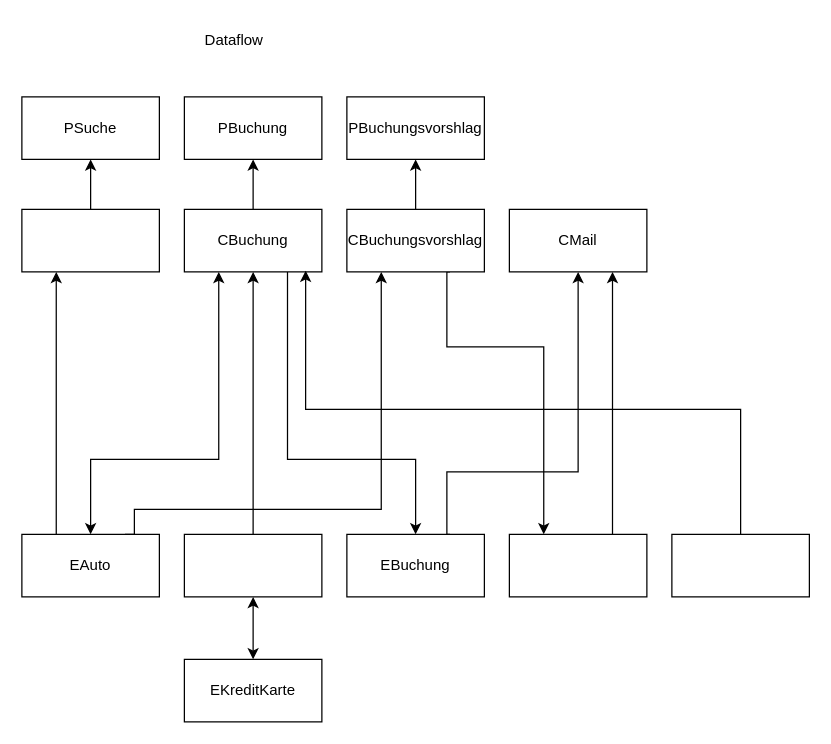
Some shapes in this 831 by 744 pixel diagram are drawn without their labels. The shapes that lost their labels are listed below. From the top down, each one's centre as x and y in pixels, then its label:
At [90,240]: "CSuche".
At [252,565]: "EKunde".
At [577,565]: "EVorshlag".
At [740,565]: "EExtra".
